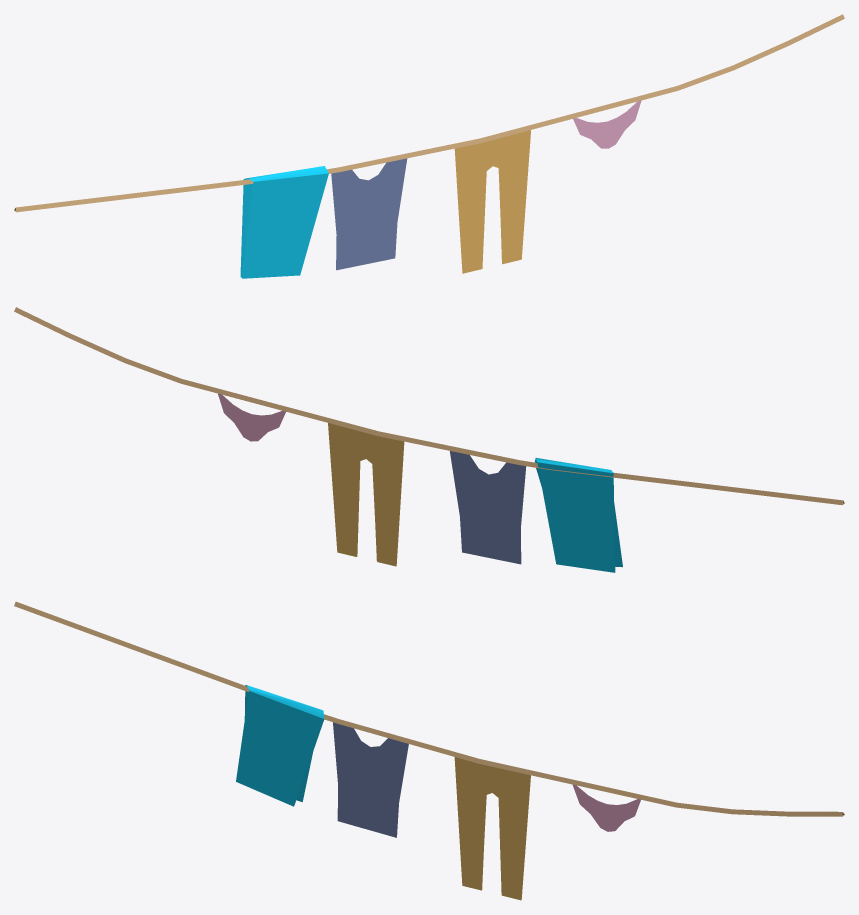
File: mesh_Clothsline.fbx
The picture shows the model from 3 angles, top to bottom: view 1: azimuth 30°, elevation 25°; view 2: azimuth 150°, elevation 25°; view 3: azimuth 330°, elevation 25°; orthographic projection.
Visible parts, largest first — view 1: Clothsline; view 2: Clothsline; view 3: Clothsline.
Boxes of the visible parts, box(x1,y1,x2,y2) form: Clothsline: box(14, 14, 844, 278); Clothsline: box(14, 307, 844, 572); Clothsline: box(14, 601, 844, 900).
Size of the model in its own units: 919 by 186 by 9.49.
2 materials, 2 textured.
